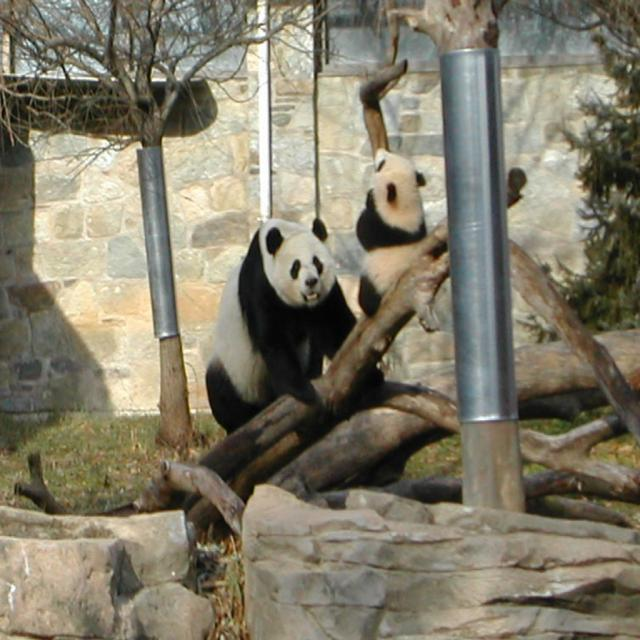panda: (206, 218, 382, 440), (354, 149, 429, 318)
